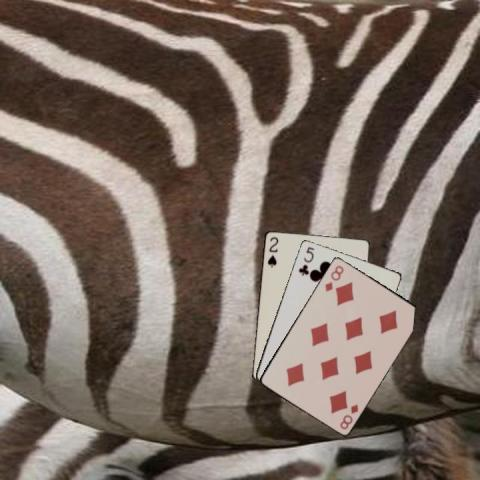2s: (265, 233, 279, 269)
5c: (296, 243, 316, 277)
8d: (322, 262, 345, 293), (337, 400, 360, 430)
